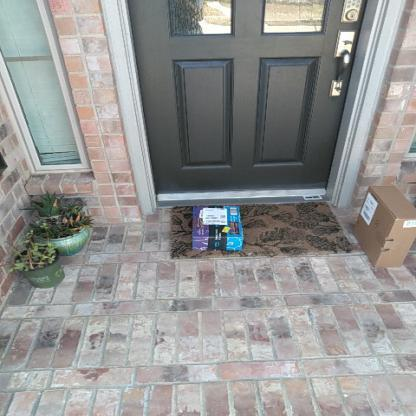package: (346, 178, 415, 276), (182, 198, 250, 255)
